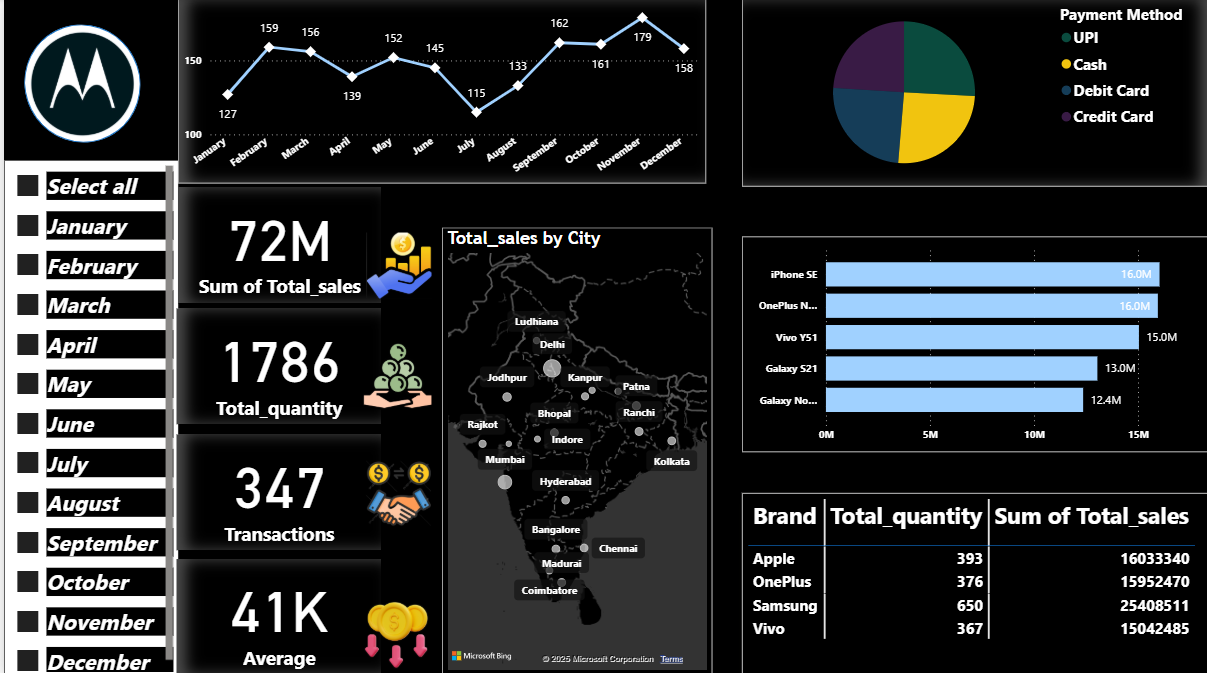

The page's visual inventory and layout, read from the dashboard file:
{"tool":"powerbi","page":{"name":"Page 1","canvas":[1280,720],"ordinal":0},"visuals":[{"type":"shape","box":[0,172,166.3,548],"z":0},{"type":"shape","box":[0,0,166.3,181.4],"z":1000},{"type":"image","box":[6.1,7.6,156.1,165.2],"z":2000},{"type":"slicer","fields":{"Values":["Sales_data.Date.Variation.Date Hierarchy.Month"]},"box":[0,172,185.2,548],"z":3000},{"type":"card","fields":{"Values":["Sum(Sales_data.Total_sales)"]},"box":[185,200,215,123.3],"z":4000},{"type":"card","fields":{"Values":["Sales_data.Total_quantity"]},"box":[183.3,328.8,217.3,122.8],"z":5000},{"type":"card","fields":{"Values":["Sales_data.Total_Transactions"]},"box":[183.3,463,217.3,122.8],"z":6000},{"type":"card","fields":{"Values":["Sales_data.Average"]},"box":[183.3,595.3,217.3,122.8],"z":7000},{"type":"image","box":[313.3,243.3,210,80],"z":8000},{"type":"image","box":[330,355,175,91.7],"z":9000},{"type":"image","box":[346.7,631.7,143.3,86.7],"z":10000},{"type":"image","box":[321.7,481.7,191.7,86.7],"z":11000},{"type":"map","title":"Total_sales by City","fields":{"Category":["Sales_data.City"],"Size":["Sum(Sales_data.Total_sales)"]},"box":[465,243.3,286.7,475],"z":12000},{"type":"lineChart","fields":{"Category":["Sales_data.Date.Variation.Date Hierarchy.Month","Sales_data.Date.Variation.Date Hierarchy.Day"],"Y":["Sales_data.Total_quantity"]},"box":[185,0,560,196.7],"z":13000},{"type":"barChart","fields":{"Category":["Sales_data.Mobile Model"],"Y":["Sum(Sales_data.Total_sales)"]},"box":[783.3,253.3,496.7,228.3],"z":14000},{"type":"pieChart","fields":{"Category":["Sales_data.Payment Method"],"Y":["Sales_data.Transactions"]},"box":[783.3,0,496.7,200],"z":15000},{"type":"tableEx","fields":{"Values":["Sales_data.Brand","Sales_data.Total_quantity","Sum(Sales_data.Total_sales)"]},"box":[783.3,525,496.7,193.3],"z":17000}]}

Visuals, with their boxes in screenshot pixels (x1, y1, x2, y2), scaled from the page's 1280x720 canvas onto the 1207x673 screenshot:
shape: [x1=0, y1=161, x2=157, y2=672]
shape: [x1=0, y1=0, x2=157, y2=170]
image: [x1=6, y1=7, x2=153, y2=162]
slicer - Sales_data.Date.Variation.Date Hierarchy.Month: [x1=0, y1=161, x2=175, y2=672]
card - Sum(Sales_data.Total_sales): [x1=174, y1=187, x2=377, y2=302]
card - Sales_data.Total_quantity: [x1=173, y1=307, x2=378, y2=422]
card - Sales_data.Total_Transactions: [x1=173, y1=433, x2=378, y2=548]
card - Sales_data.Average: [x1=173, y1=556, x2=378, y2=671]
image: [x1=295, y1=227, x2=493, y2=302]
image: [x1=311, y1=332, x2=476, y2=418]
image: [x1=327, y1=590, x2=462, y2=672]
image: [x1=303, y1=450, x2=484, y2=531]
"Total_sales by City" map: [x1=438, y1=227, x2=709, y2=671]
lineChart - Sales_data.Date.Variation.Date Hierarchy.Month x Sales_data.Date.Variation.Date Hierarchy.Day: [x1=174, y1=0, x2=703, y2=184]
barChart - Sales_data.Mobile Model x Sum(Sales_data.Total_sales): [x1=739, y1=237, x2=1206, y2=450]
pieChart - Sales_data.Payment Method x Sales_data.Transactions: [x1=739, y1=0, x2=1206, y2=187]
tableEx - Sales_data.Brand x Sales_data.Total_quantity: [x1=739, y1=491, x2=1206, y2=671]
